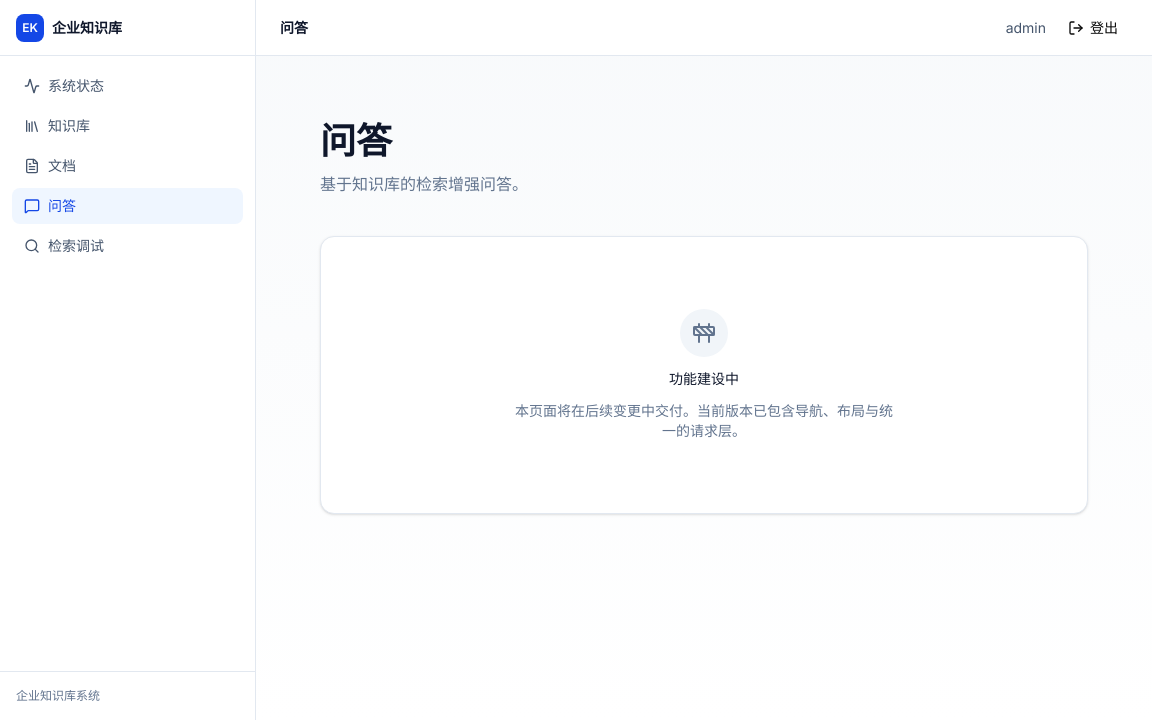
Test: 外壳账号区与登出 › 登出后回到登录页且不再持有旧访问令牌
Expected: the text "admin" is shown, [1006,18,1046,38]
Note: userEvent 自身已包 act：不要把点击再套一层 act（会导致事件派发与 act 冲突）
Step 1. Click the button "登出" → [1093, 28], box [1058,12,1128,44]
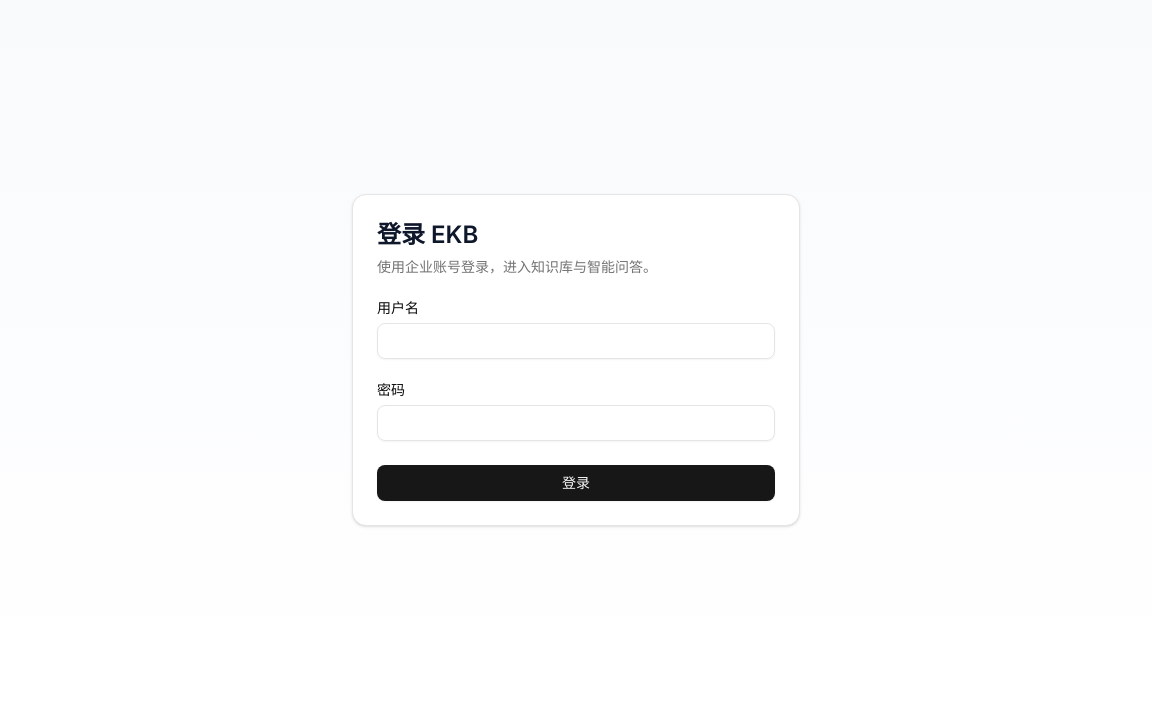
Now the text "登录 EKB" is shown, box [377,220,478,249]
